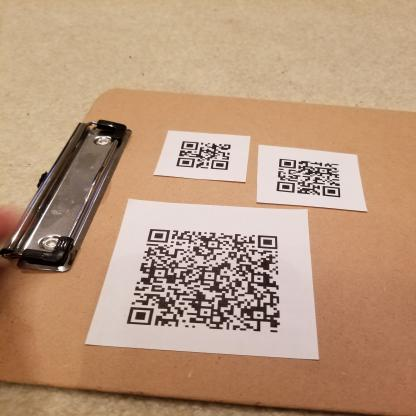qr: (121, 225, 293, 340), (278, 154, 348, 201), (176, 139, 240, 177)
